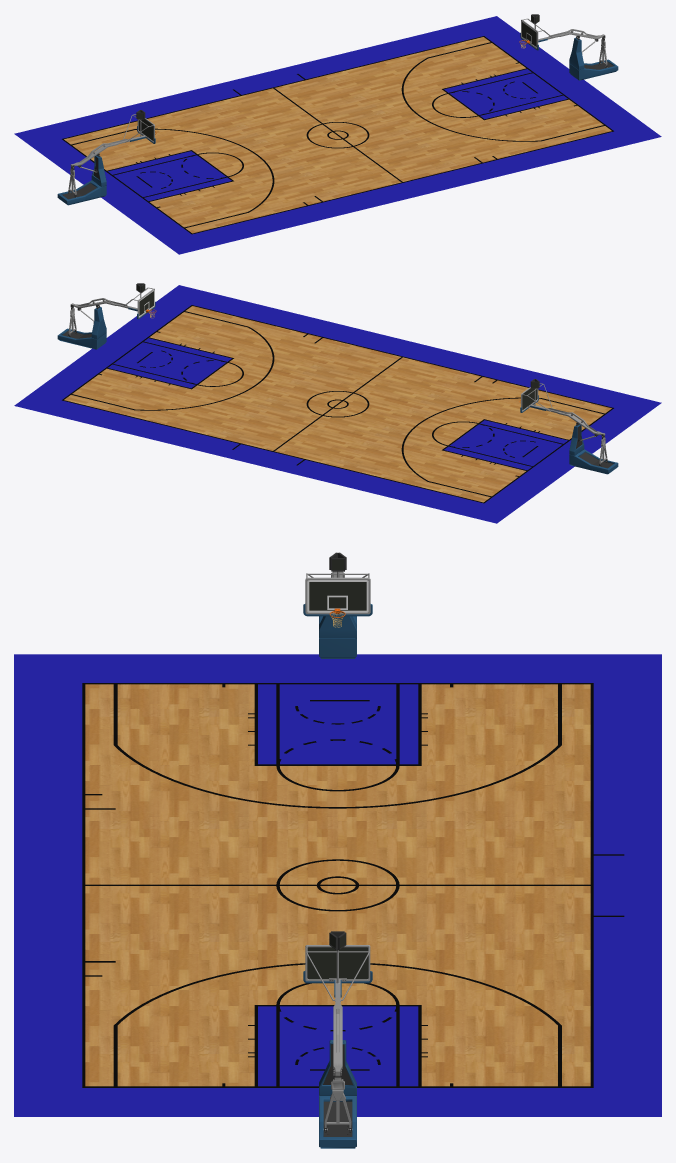
File: BlueCourt.fbx
The picture shows the model from 3 angles, top to bottom: view 1: azimuth 30°, elevation 25°; view 2: azimuth 150°, elevation 25°; view 3: azimuth 270°, elevation 25°; orthographic projection. The views are drawn at different scales.
Visible parts, largest first — view 1: court_wood, court_blue, court_line, backboard0, backboard; view 2: court_wood, court_blue, court_line, backboard0, backboard; view 3: court_wood, court_blue, court_line, backboard, backboard0.
Part boxes in pixels (box(x1,y1,x2,y2)): court_wood: box(64, 37, 611, 233); court_blue: box(14, 16, 661, 254); court_line: box(62, 36, 613, 234); backboard0: box(57, 110, 156, 205); backboard: box(519, 14, 618, 80); court_wood: box(64, 306, 611, 502); court_blue: box(14, 285, 661, 523); court_line: box(62, 305, 613, 503); backboard0: box(519, 379, 618, 474); backboard: box(57, 283, 156, 349); court_wood: box(85, 684, 590, 1086); court_blue: box(14, 654, 661, 1116); court_line: box(82, 683, 624, 1087); backboard: box(303, 931, 372, 1148); backboard0: box(303, 552, 372, 658).
Bounding box in the file's own units: 93.06 × 11.56 × 48.27.
Materials: 14 (1 with a texture image).
